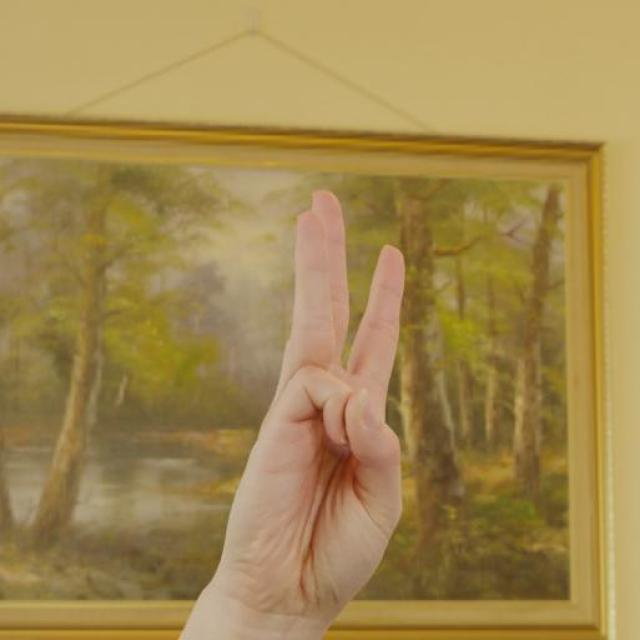W: (198, 184, 413, 624)
